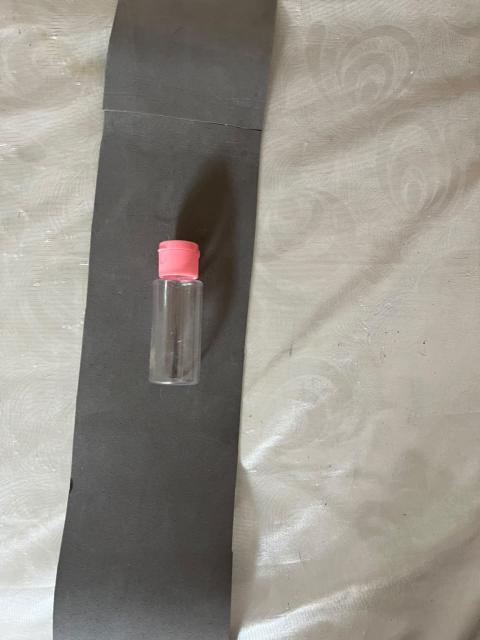PET: (112, 192, 235, 433)
